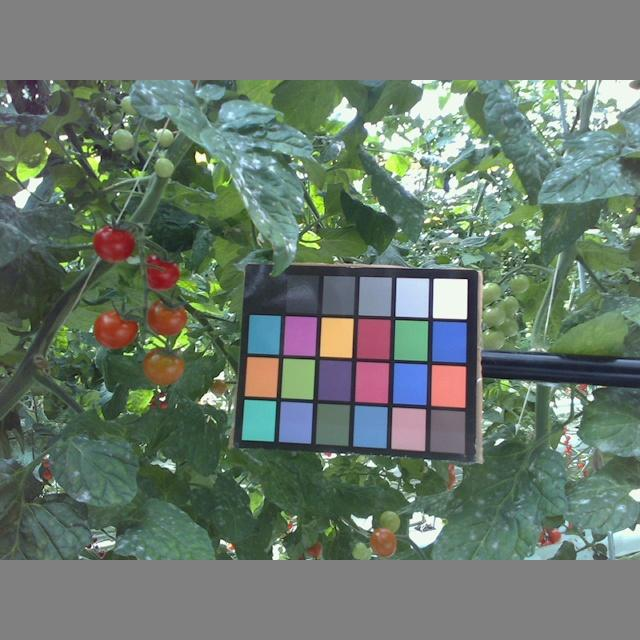green: (480, 325, 506, 354), (481, 305, 507, 330), (111, 127, 135, 153), (375, 511, 401, 533), (152, 124, 175, 148), (152, 157, 175, 181), (497, 297, 520, 320), (508, 271, 529, 295), (482, 281, 501, 306)
pink: (142, 347, 183, 386), (147, 300, 186, 337), (368, 526, 397, 557)
red: (92, 309, 138, 350), (136, 252, 179, 290), (93, 225, 136, 261)
